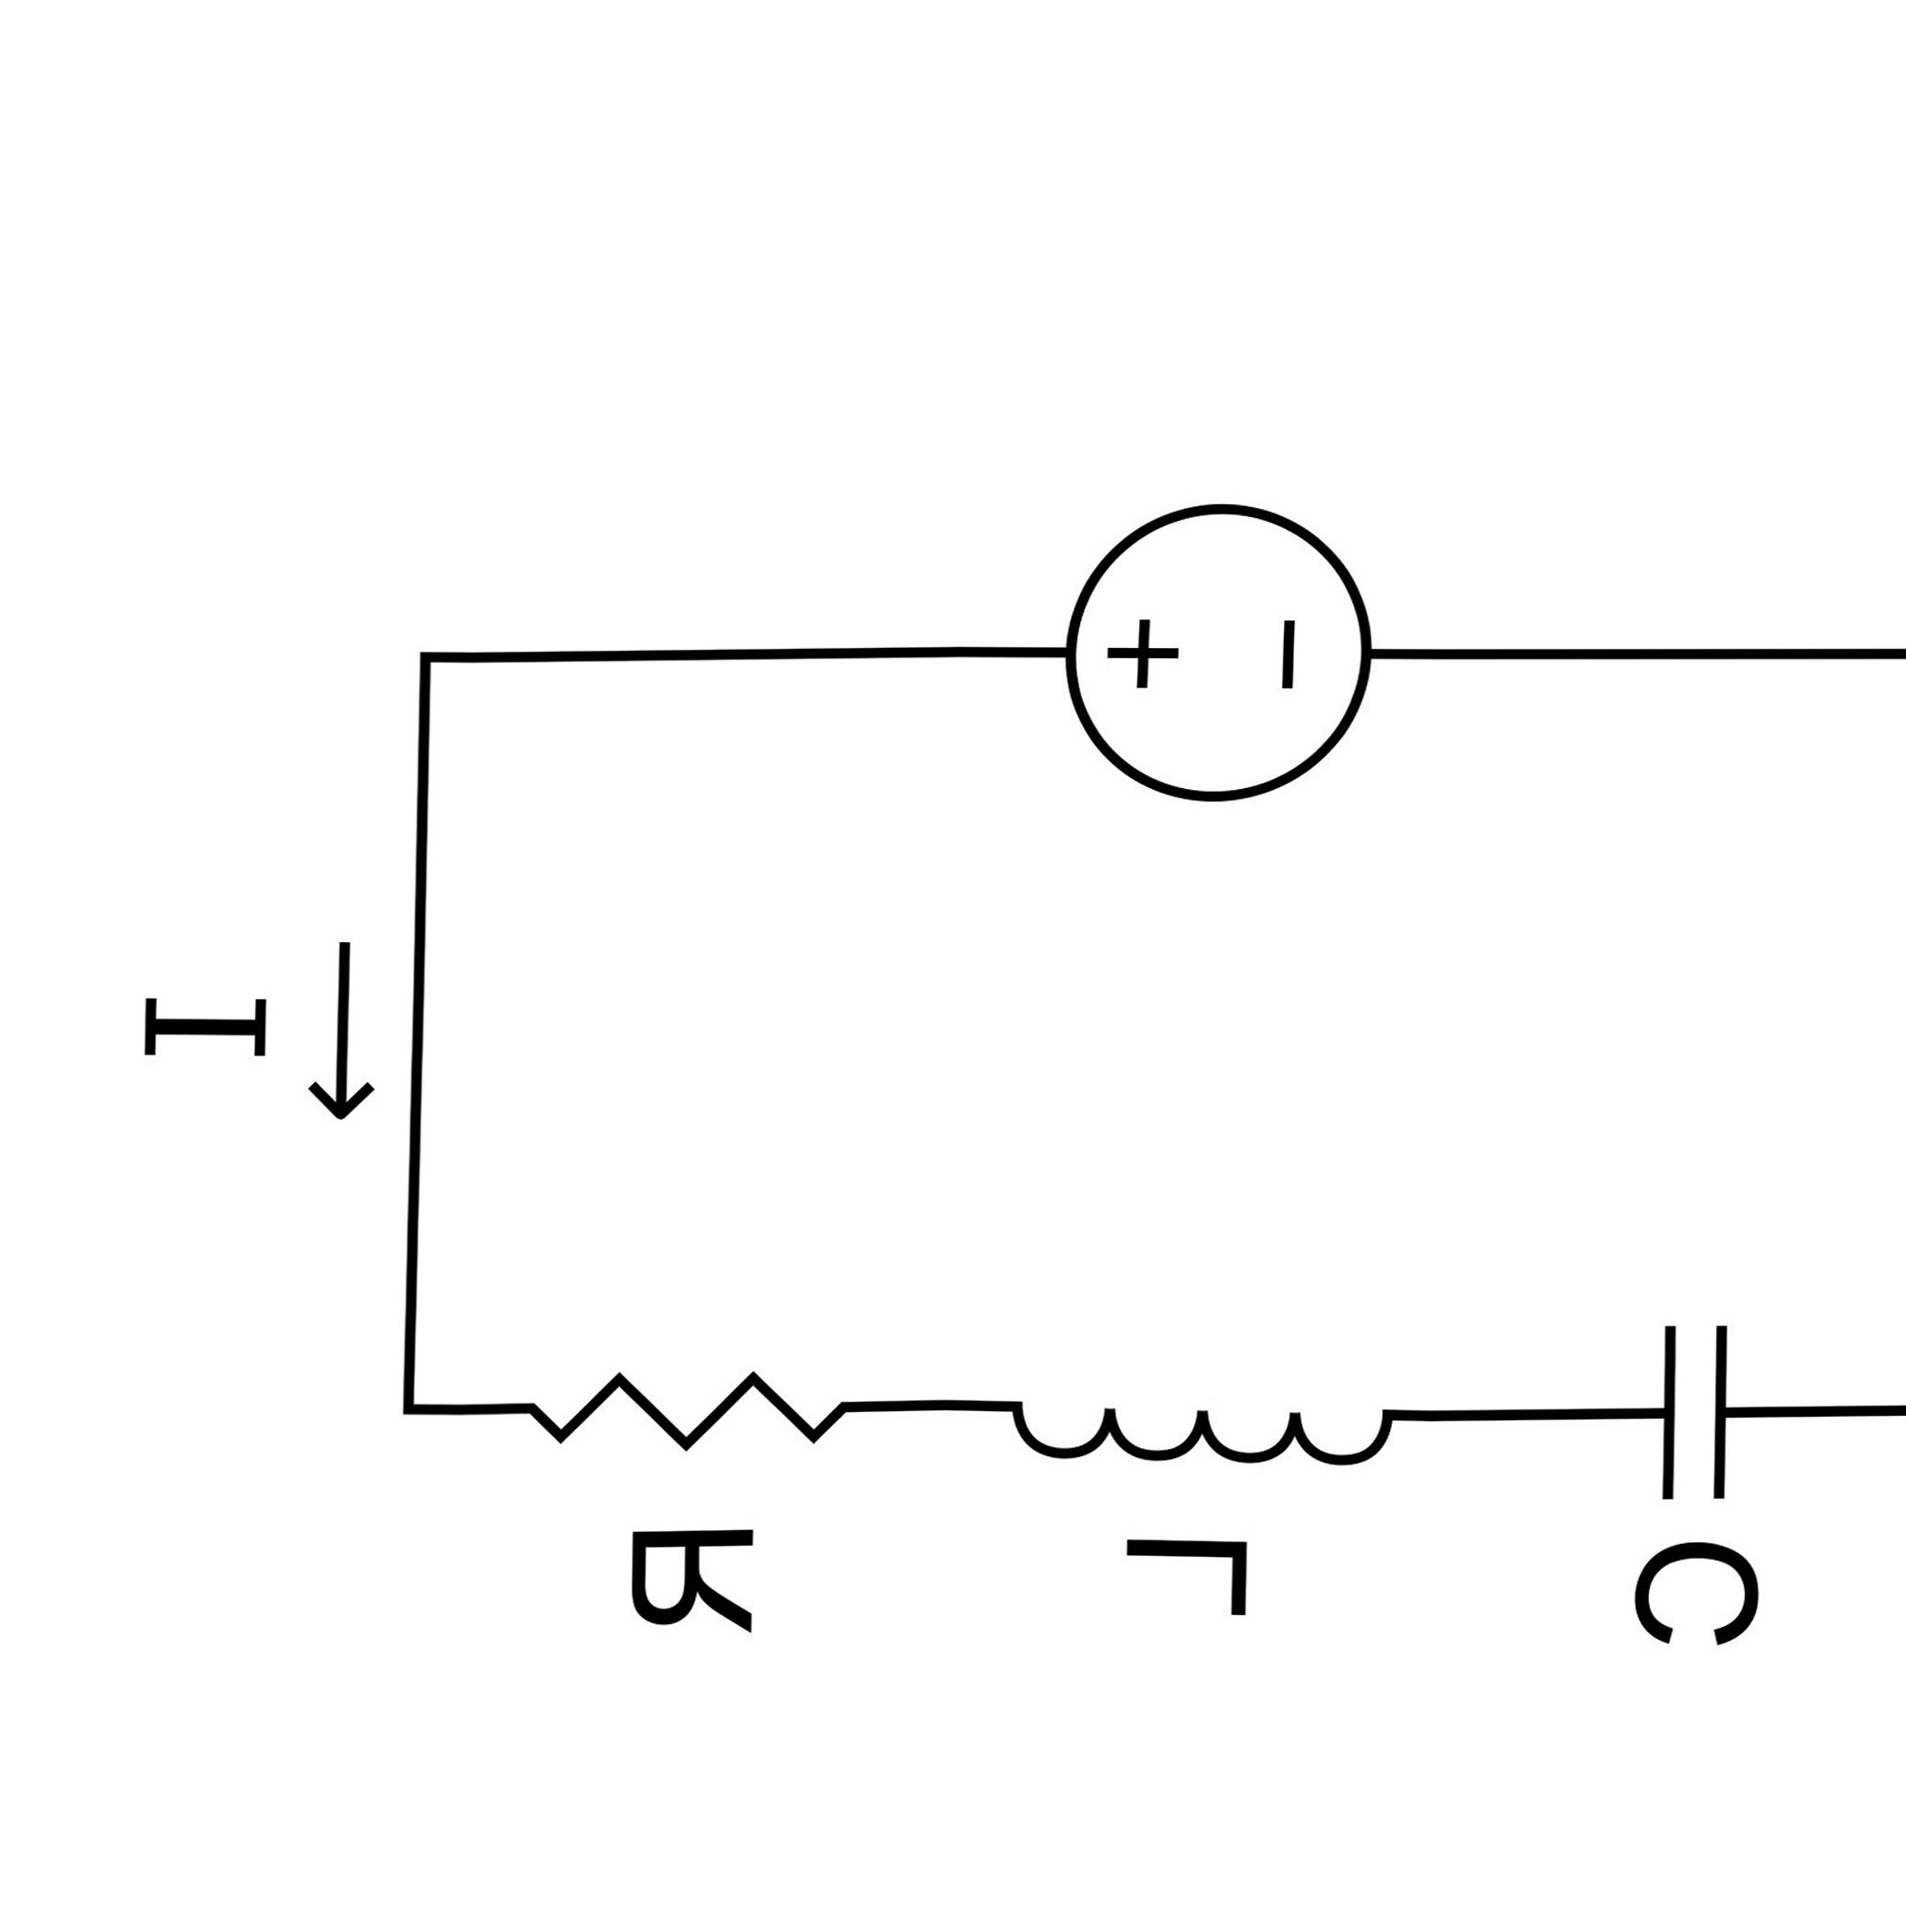Battery: (1005, 440, 1443, 890)
